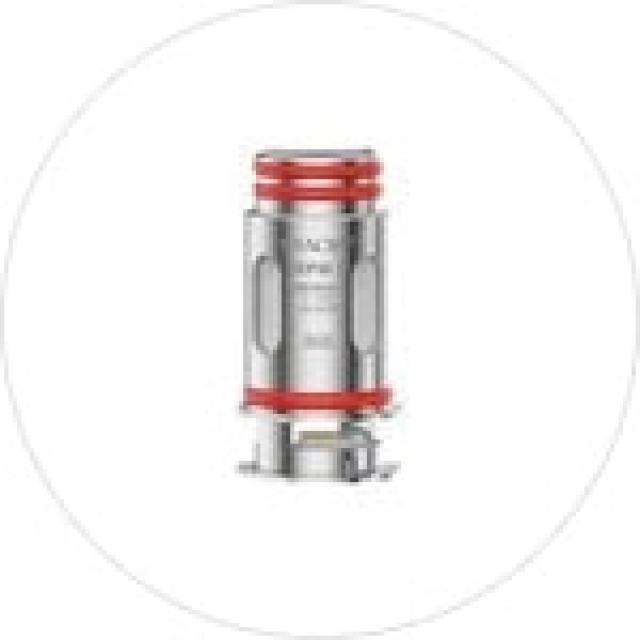Vape-images: (230, 145, 401, 482)
